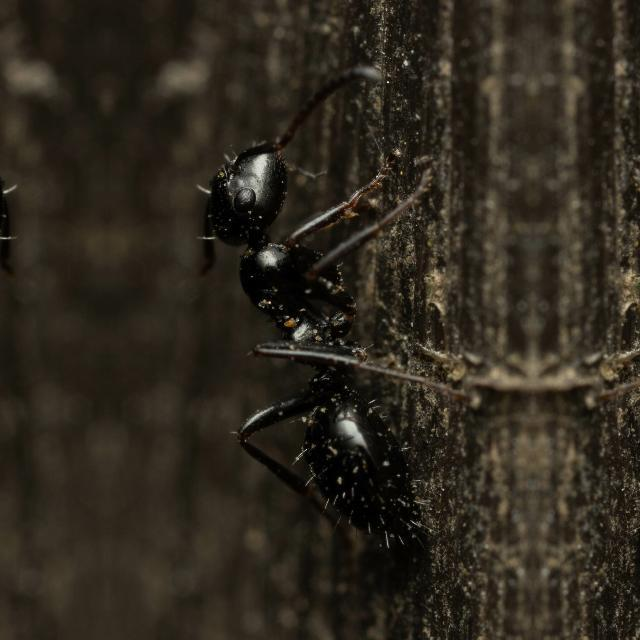Colobopsis: (180, 57, 464, 618)
